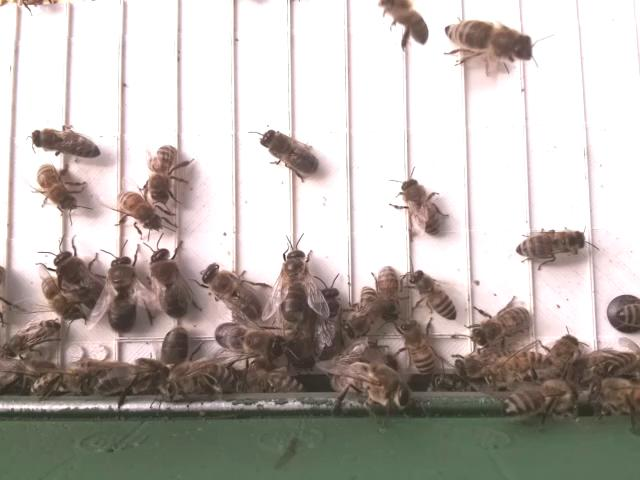Drone: (198, 262, 266, 324), (52, 247, 109, 314), (145, 244, 193, 323), (258, 124, 321, 178), (210, 319, 287, 360), (104, 250, 141, 335), (278, 243, 313, 328), (314, 278, 346, 364)
Worker: (452, 16, 531, 62), (467, 305, 534, 350), (407, 266, 458, 325), (511, 227, 590, 263), (0, 318, 64, 362), (26, 124, 102, 161), (398, 173, 441, 238), (398, 319, 441, 378), (33, 160, 80, 212), (112, 185, 161, 231), (146, 142, 181, 206), (344, 284, 380, 342), (373, 260, 404, 320)
